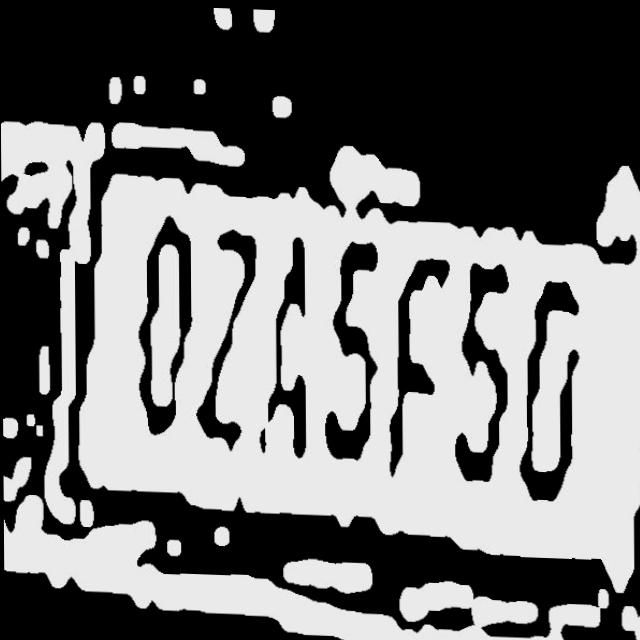0: (518, 268, 590, 507)
3: (319, 233, 382, 465)
5: (450, 254, 522, 490)
a: (261, 228, 315, 462)
f: (387, 245, 449, 482)
q: (133, 210, 193, 440)
z: (199, 222, 260, 454)
